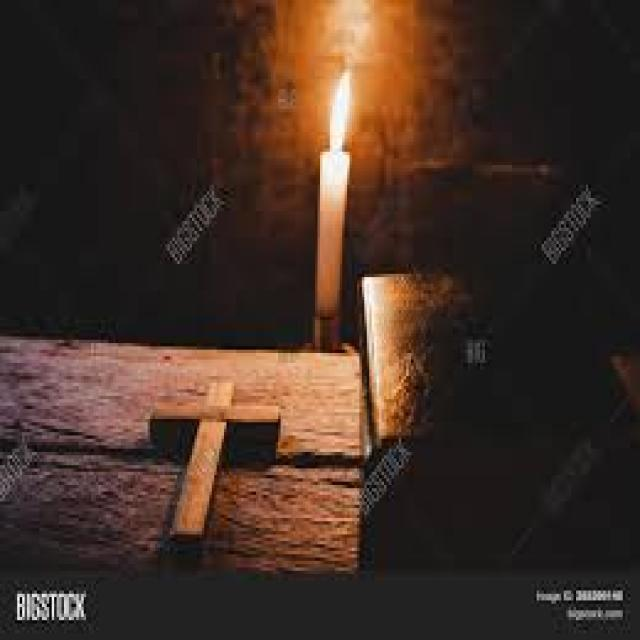fire: (325, 62, 352, 152)
